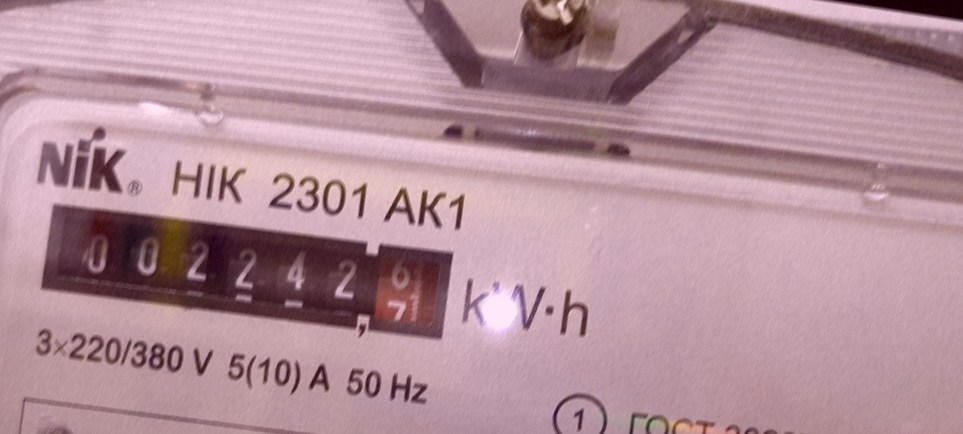0: (130, 231, 161, 276), (81, 228, 110, 276), (181, 237, 211, 282)
2: (328, 254, 359, 301), (230, 244, 259, 291)
4: (279, 246, 309, 292)
6: (385, 255, 413, 291)
7: (380, 296, 407, 322)
screen: (26, 180, 470, 364)
